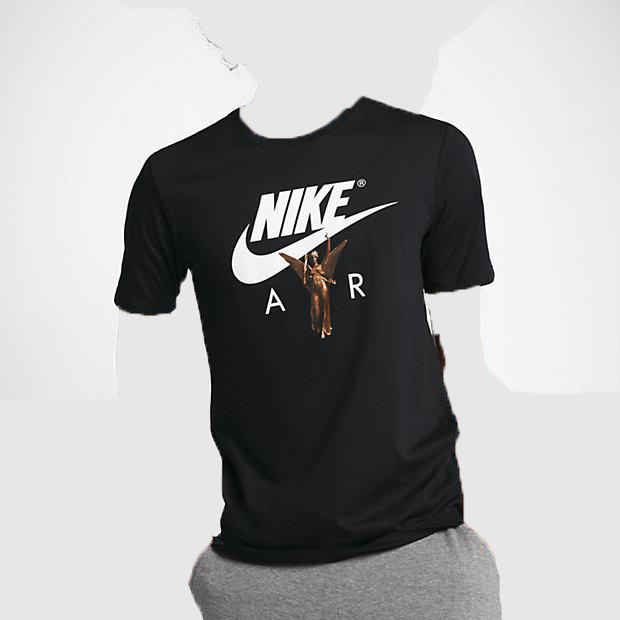teeshirt: (97, 95, 513, 570)
